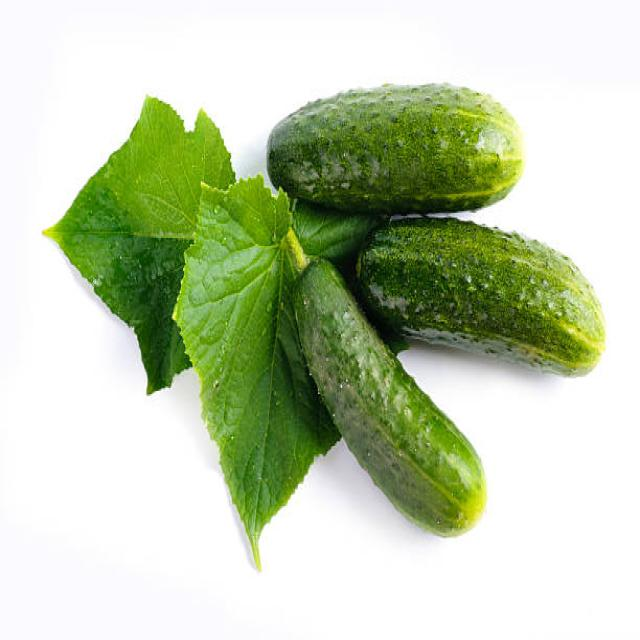cucumber: (288, 256, 489, 535), (354, 215, 606, 381), (266, 79, 527, 220)
